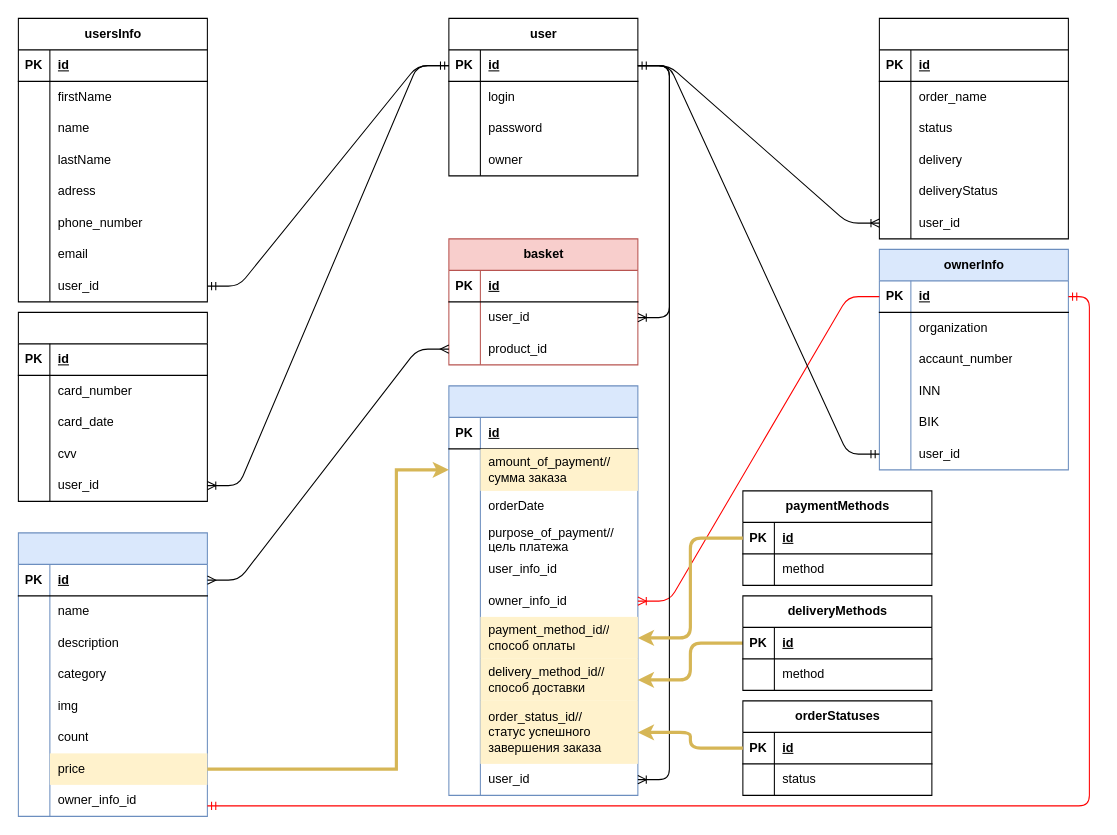
This 1117x835 diagram has some shape labels left out. The shapes that lost their labels are listed below. From the top down, each one's box as (x1, y1, x2, y2) in pixels, then its label:
(878, 17, 1068, 239): ordersHistory
(17, 311, 207, 501): requisites// реквизиты
(448, 385, 638, 795): paymentInfo// инф платежа
(17, 532, 207, 816): Product
